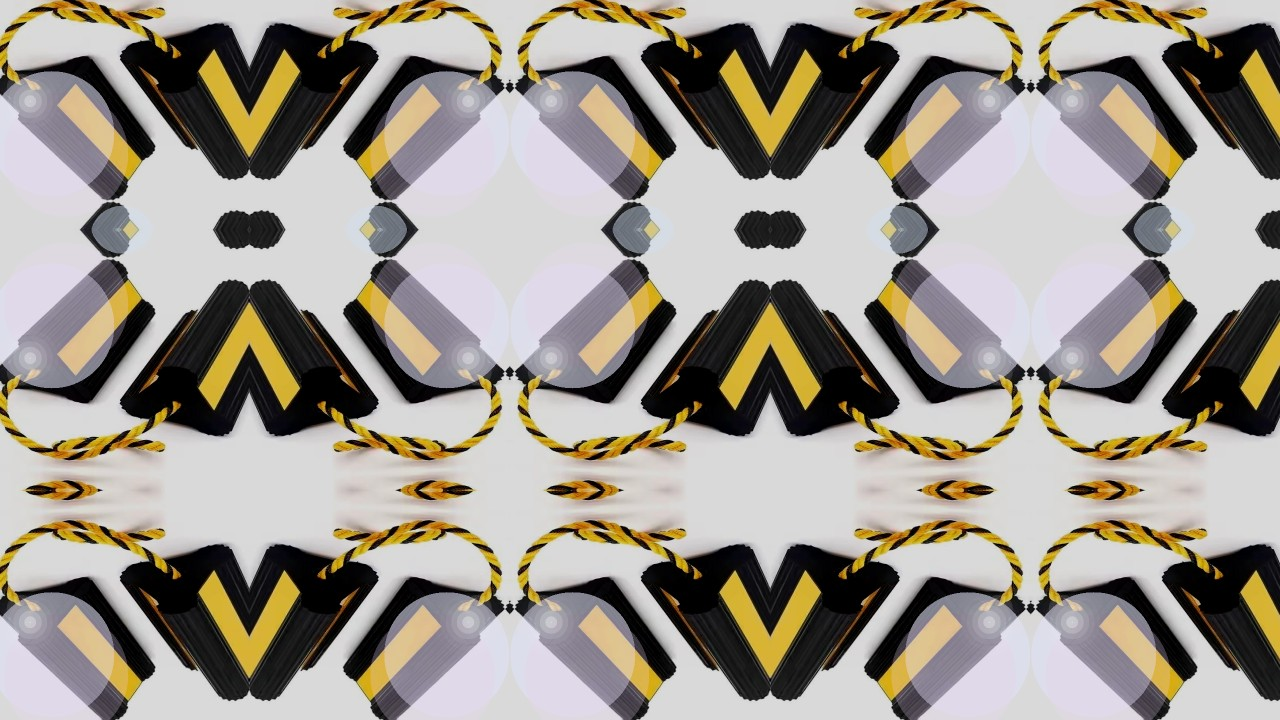chock: (339, 52, 506, 206), (513, 52, 680, 206), (861, 52, 1028, 206), (1035, 52, 1202, 206), (339, 253, 506, 407), (513, 253, 680, 407), (861, 253, 1028, 407), (1035, 253, 1202, 407), (339, 574, 506, 720), (513, 574, 680, 720), (861, 574, 1028, 720), (1035, 574, 1202, 720), (0, 52, 158, 206), (0, 253, 158, 407), (0, 574, 158, 720), (248, 19, 380, 185), (248, 274, 380, 440), (248, 541, 380, 707), (117, 19, 248, 185), (639, 19, 770, 185), (771, 19, 902, 185), (117, 274, 248, 440), (639, 274, 770, 440), (771, 274, 902, 440), (117, 541, 248, 707), (639, 541, 770, 707), (771, 541, 902, 707), (1161, 19, 1280, 185), (1161, 274, 1280, 440), (1161, 541, 1280, 707)
